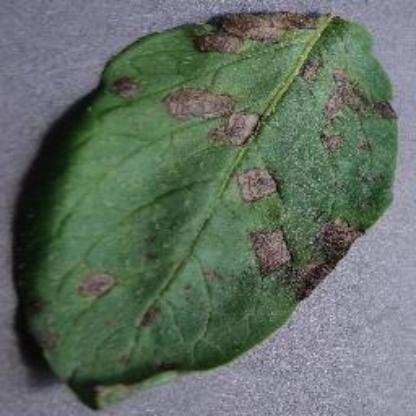Early-Blight: (24, 8, 402, 408)
